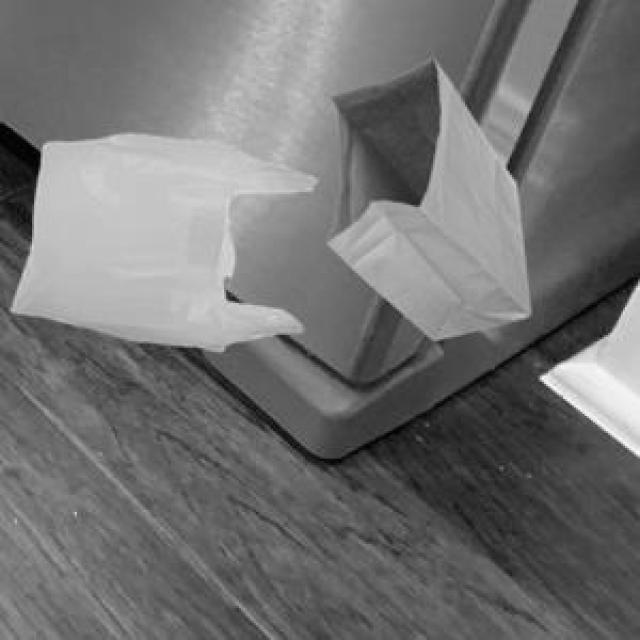paper: (324, 56, 527, 335)
